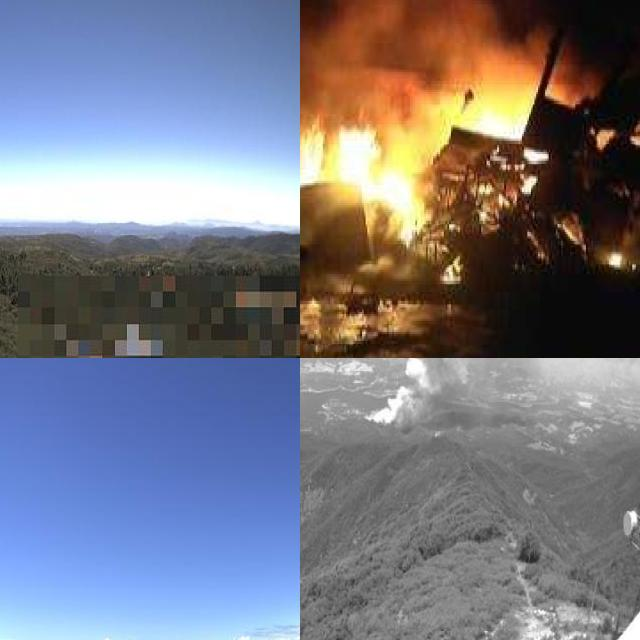fire: (300, 109, 425, 238), (453, 83, 568, 165)
smoke: (300, 0, 570, 101), (361, 358, 615, 431)
